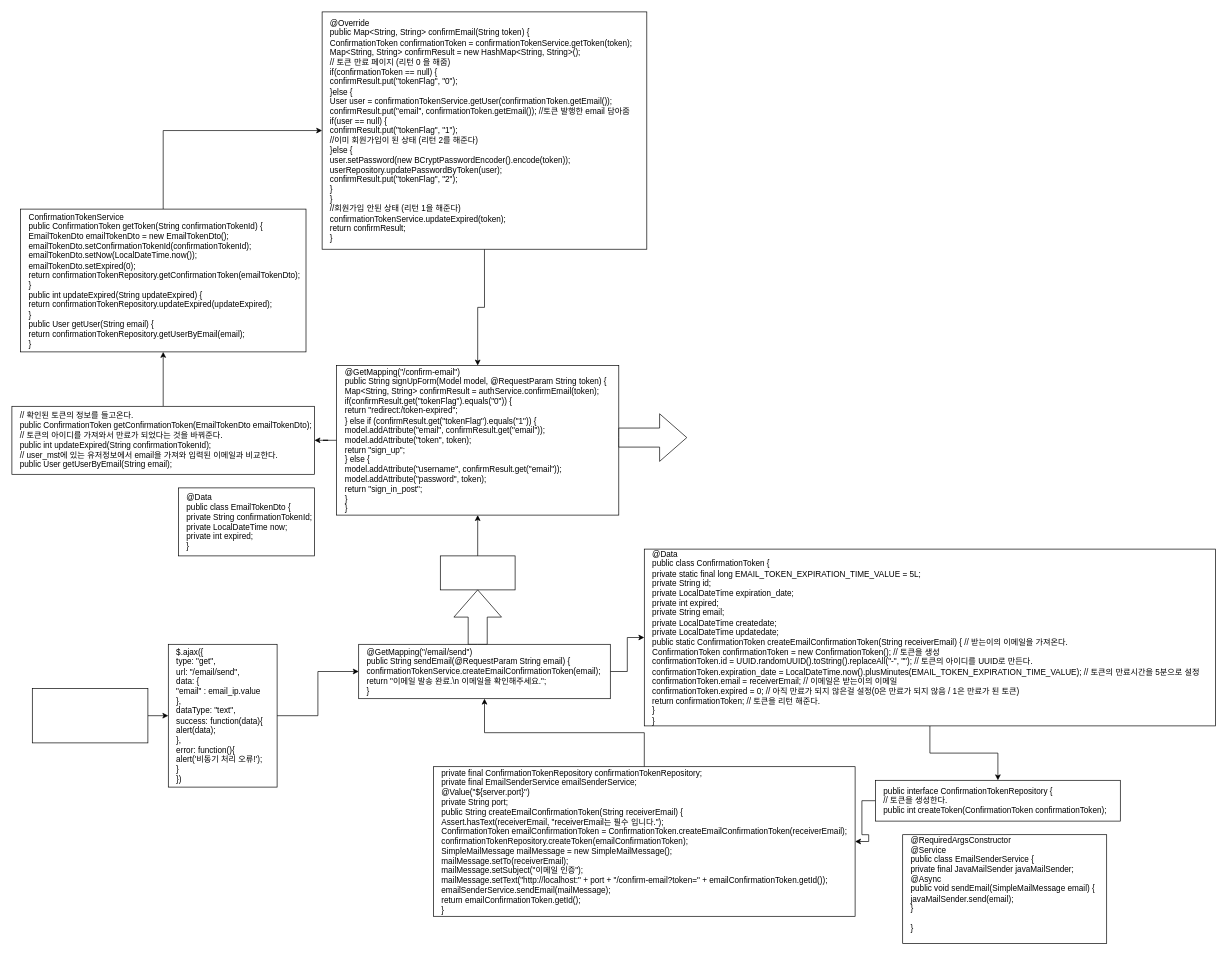
Some shapes in this 1227 by 955 pixel diagram are drawn without their labels. The centre of each missing label's shape, as x and y in pixels:
// 메인 페이지 @GetMapping({"/", "/index"}) public String index() { return "index"; }: pixel 90 715
링크를 눌렀을 때: pixel 477 572
